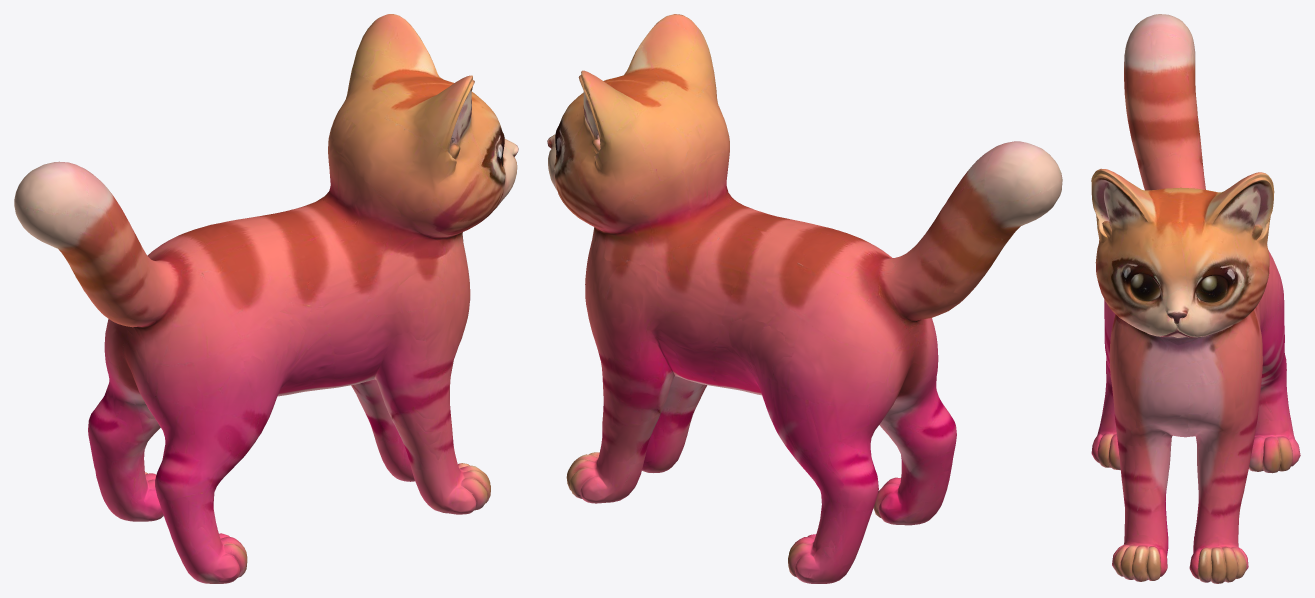
The model's file is vibing-cat-coin.glb.
3 views of the same model, side by side, from view 1: azimuth 30°, elevation 25°; view 2: azimuth 150°, elevation 25°; view 3: azimuth 270°, elevation 25° (orthographic). The views are drawn at different scales.
Parts seen in each view (by area): view 1: fit; view 2: fit; view 3: fit.
Part boxes in pixels (box(x1,y1,x2,y2)): fit: box(14, 14, 518, 583); fit: box(547, 14, 1062, 583); fit: box(1091, 14, 1300, 583).
Bounding box in the file's own units: 1.19 × 0.9994 × 0.4734.
1 material, 1 textured.
